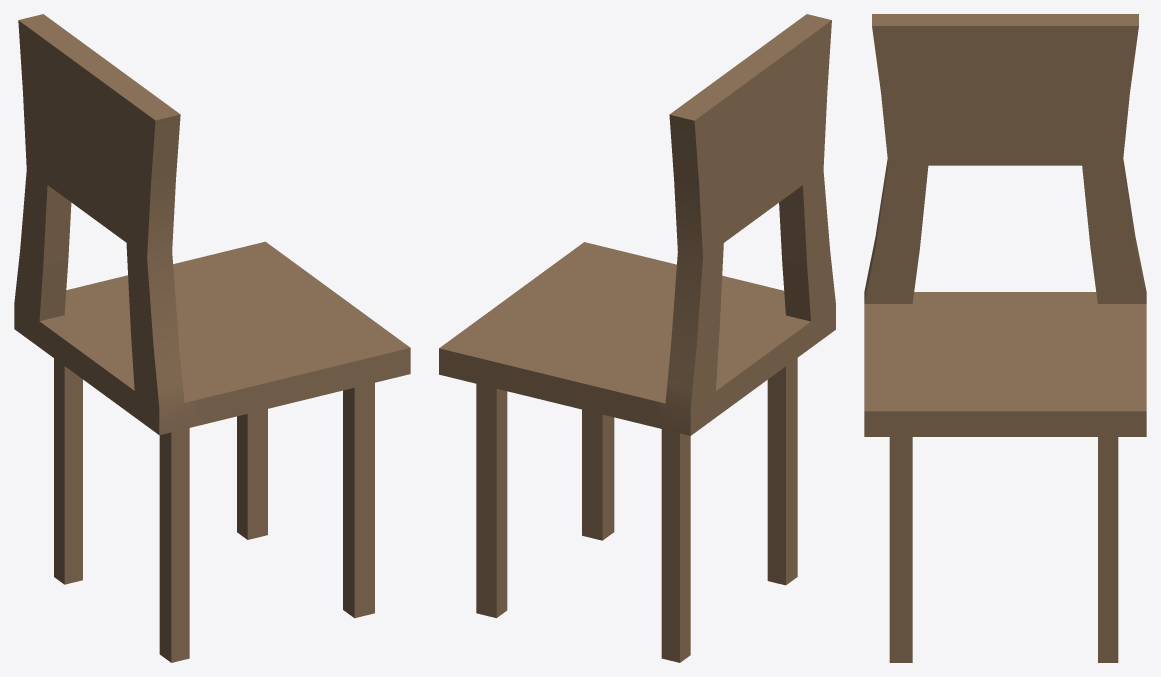
File: Chair.fbx
3 renders of one model, left to right at view 1: azimuth 30°, elevation 25°; view 2: azimuth 150°, elevation 25°; view 3: azimuth 270°, elevation 25°, orthographic. The views are drawn at different scales.
Parts seen in each view (by area): view 1: Chair; view 2: Chair; view 3: Chair.
Boxes of the visible parts, <box> form: Chair: <box>14,14,410,662</box>; Chair: <box>439,14,835,662</box>; Chair: <box>864,14,1146,662</box>.
Size of the model in its own units: 35.74 by 75.49 by 35.74.
